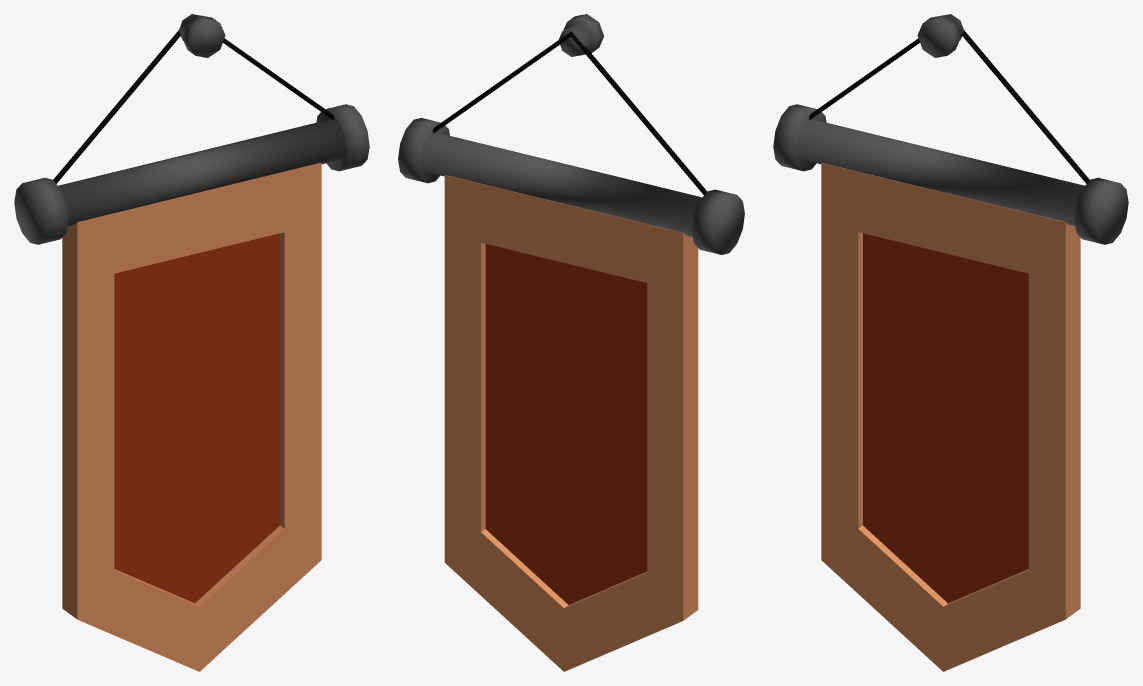
Rendered from Bayrak.fbx.
The picture shows the model from 3 angles, left to right: view 1: azimuth 30°, elevation 25°; view 2: azimuth 150°, elevation 25°; view 3: azimuth 330°, elevation 25°; orthographic projection. The views are drawn at different scales.
Visible parts, largest first — view 1: Cube.001; view 2: Cube.001; view 3: Cube.001.
Part boxes in pixels (left/top/right/bottom): Cube.001: left=14, top=14, right=369, bottom=671; Cube.001: left=398, top=14, right=744, bottom=671; Cube.001: left=773, top=14, right=1128, bottom=671.
Size of the model in its own units: 0.7898 by 1.53 by 0.1346.
